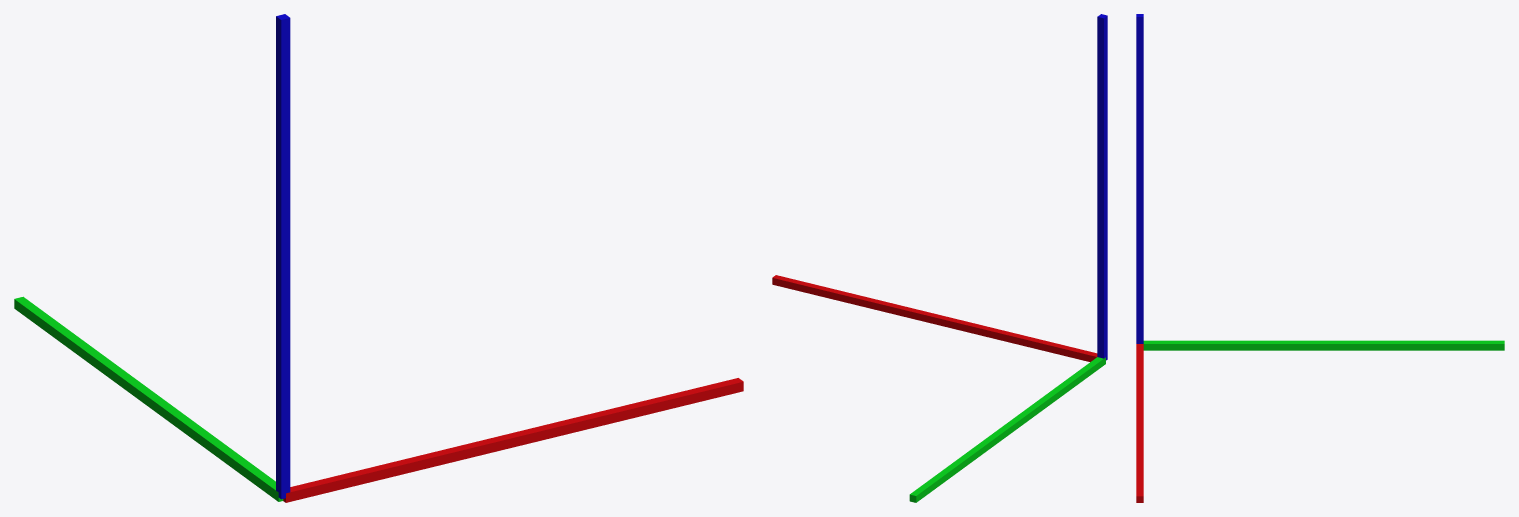
3 renders of one model, left to right at view 1: azimuth 30°, elevation 25°; view 2: azimuth 150°, elevation 25°; view 3: azimuth 270°, elevation 25°, orthographic. The views are drawn at different scales.
Parts seen in each view (by area): view 1: arm6.006; view 2: arm6.006; view 3: arm6.006.
Part boxes in pixels (x1,y1,x2,y2): arm6.006: (14,14,743,502); arm6.006: (772,14,1107,502); arm6.006: (1136,14,1504,502).
Size of the model in its own units: 0.0808 by 0.0808 by 0.0808.
